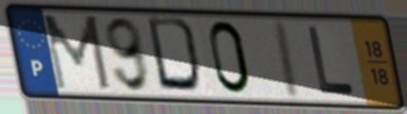0: (206, 19, 254, 98)
9: (102, 15, 153, 95)
D: (144, 14, 208, 98)
I: (273, 17, 304, 102)
L: (305, 24, 358, 99)
M: (40, 12, 114, 93)
